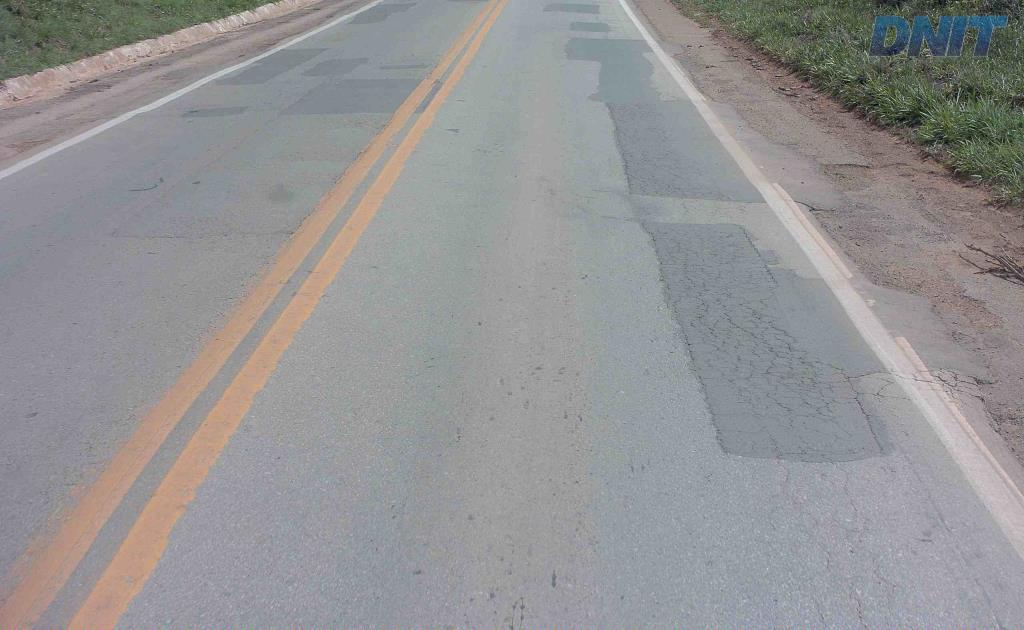crack: (676, 253, 836, 416), (827, 363, 885, 454)
